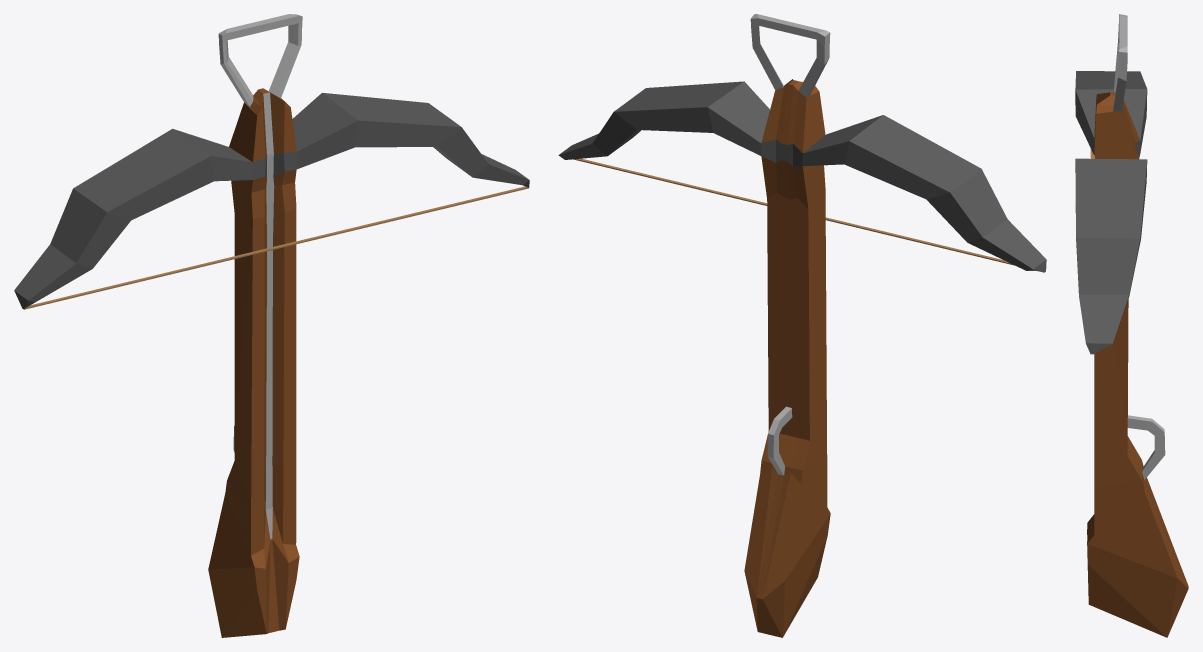
The model's file is besta.glb.
The picture shows the model from 3 angles, left to right: view 1: azimuth 30°, elevation 25°; view 2: azimuth 150°, elevation 25°; view 3: azimuth 270°, elevation 25°; orthographic projection. The views are drawn at different scales.
Visible parts, largest first — view 1: Crossbow; view 2: Crossbow; view 3: Crossbow.
Boxes of the visible parts, box(x1,y1,x2,y2) form: Crossbow: box(14, 14, 529, 637); Crossbow: box(558, 14, 1046, 637); Crossbow: box(1075, 14, 1188, 637).
Size of the model in its own units: 0.6647 by 0.79 by 0.1347.
